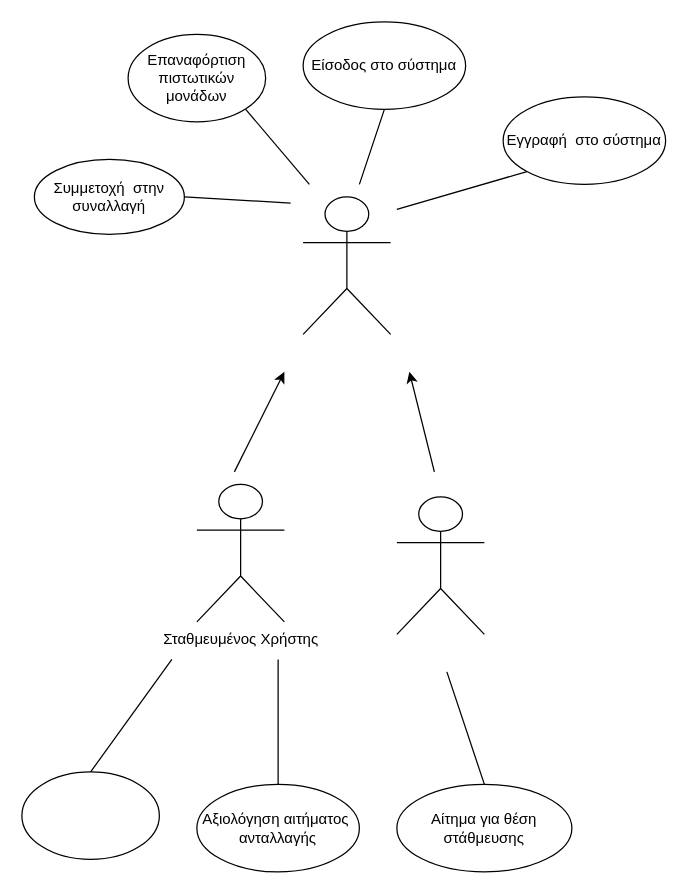
Image size: 688x894. Some labels were removed from this diagram. The shapes that lost their labels are listed below. From the top down, each one's box as (x1, y1, x2, y2) in pixels, then its label:
(302, 196, 391, 334): Πρόσωπο
(396, 496, 484, 634): Ενδιαφερόμενος Χρήστης
(21, 771, 159, 859): Διαθεσιμότητα της θέσης στάθμευσης
